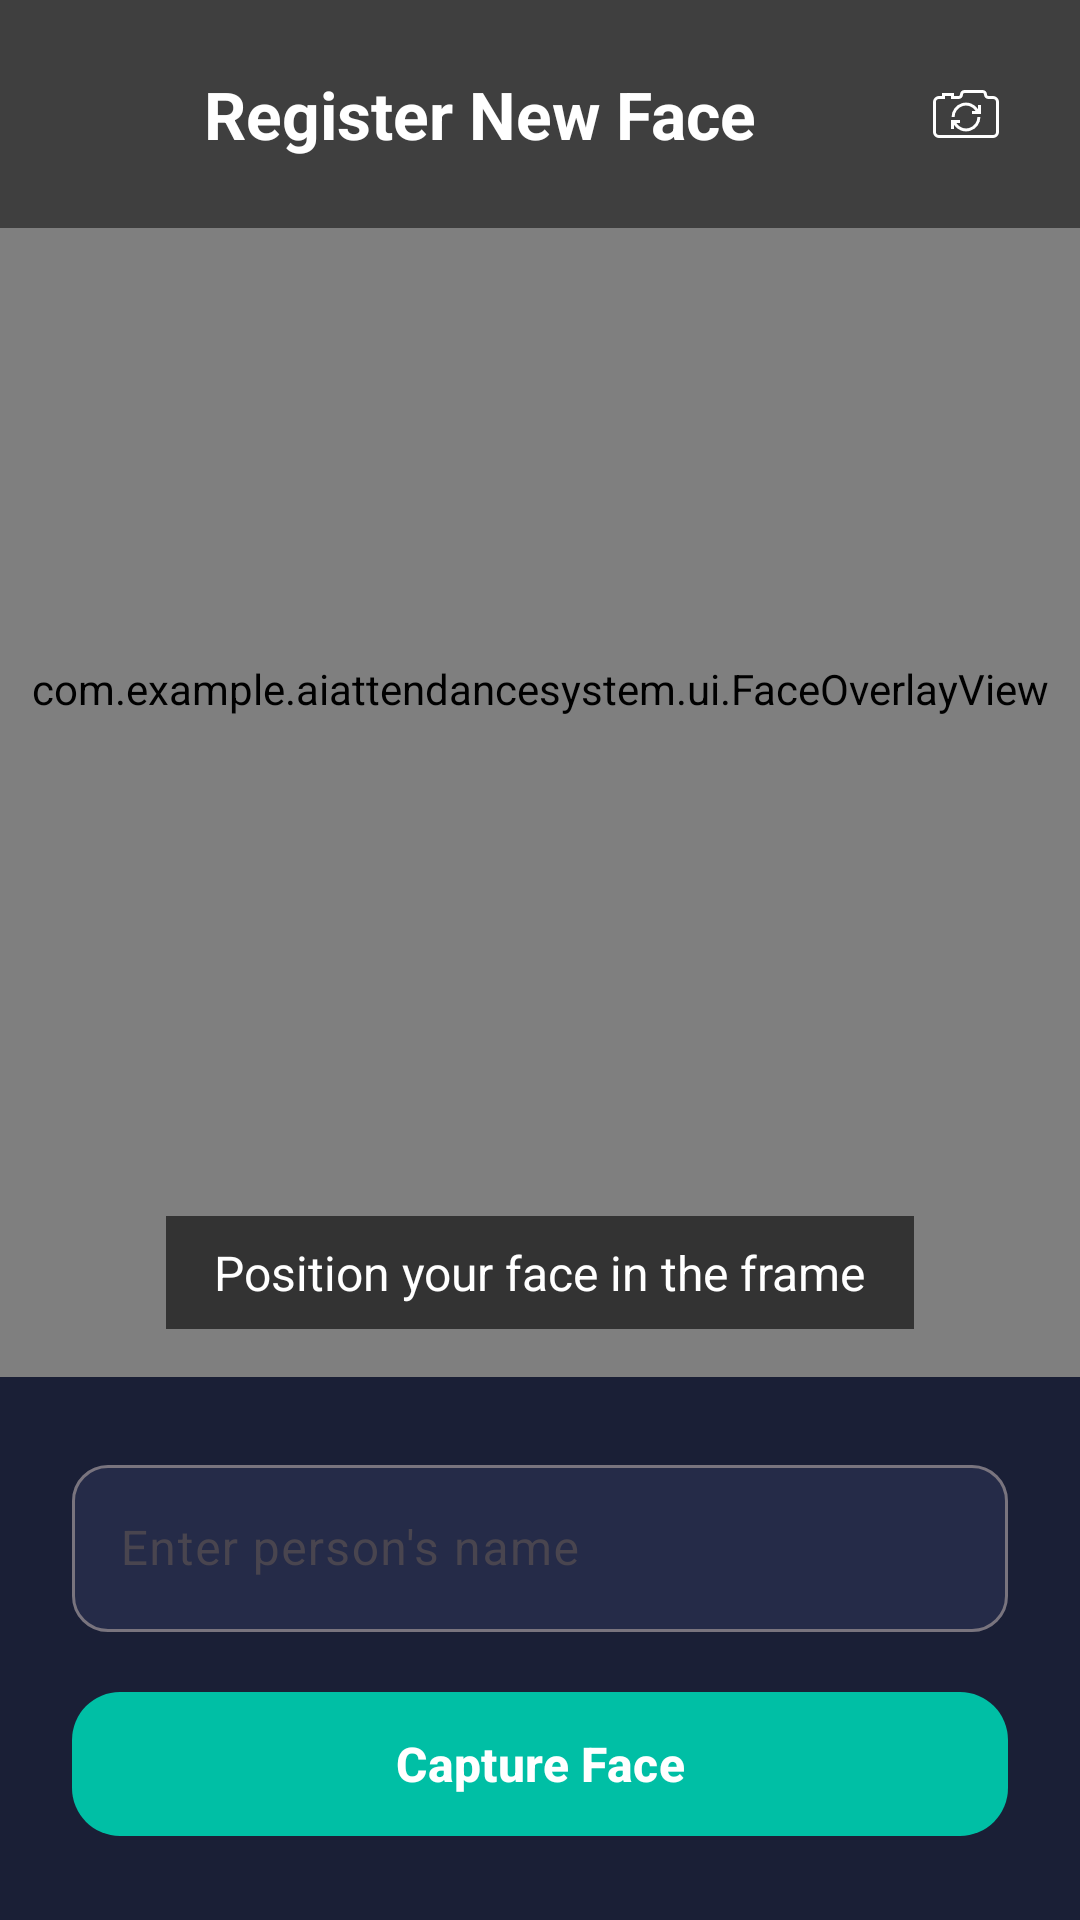

Icons on this 1080w x 1920h Android screen, each with its box as {"left": x1, "top": y1, "right": x2, "bottom": y2}:
Switch Camera: {"left": 933, "top": 90, "right": 999, "bottom": 138}
